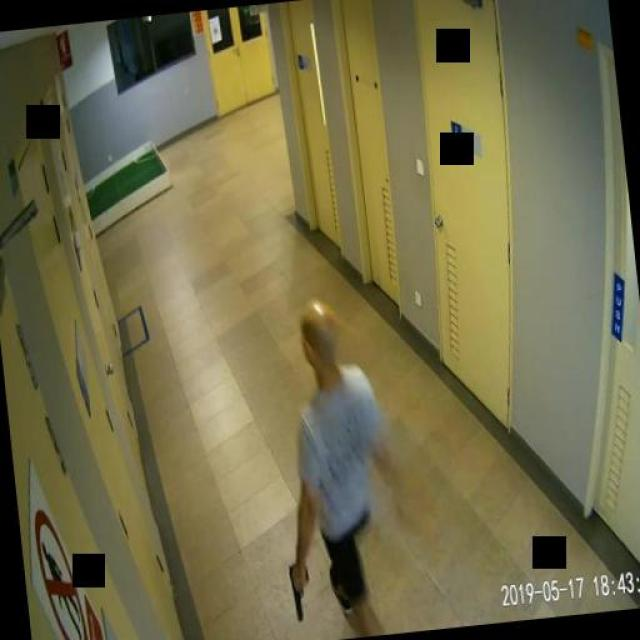gun: (286, 562, 312, 620)
